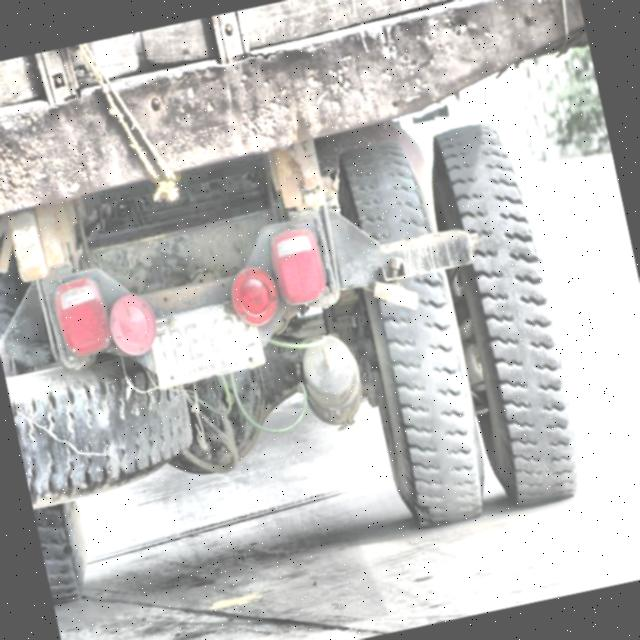2: (234, 311, 257, 348)
6: (203, 318, 226, 357)
8: (219, 313, 240, 352)
E: (182, 320, 205, 360)
P: (166, 326, 189, 365)
T: (150, 330, 172, 368)
